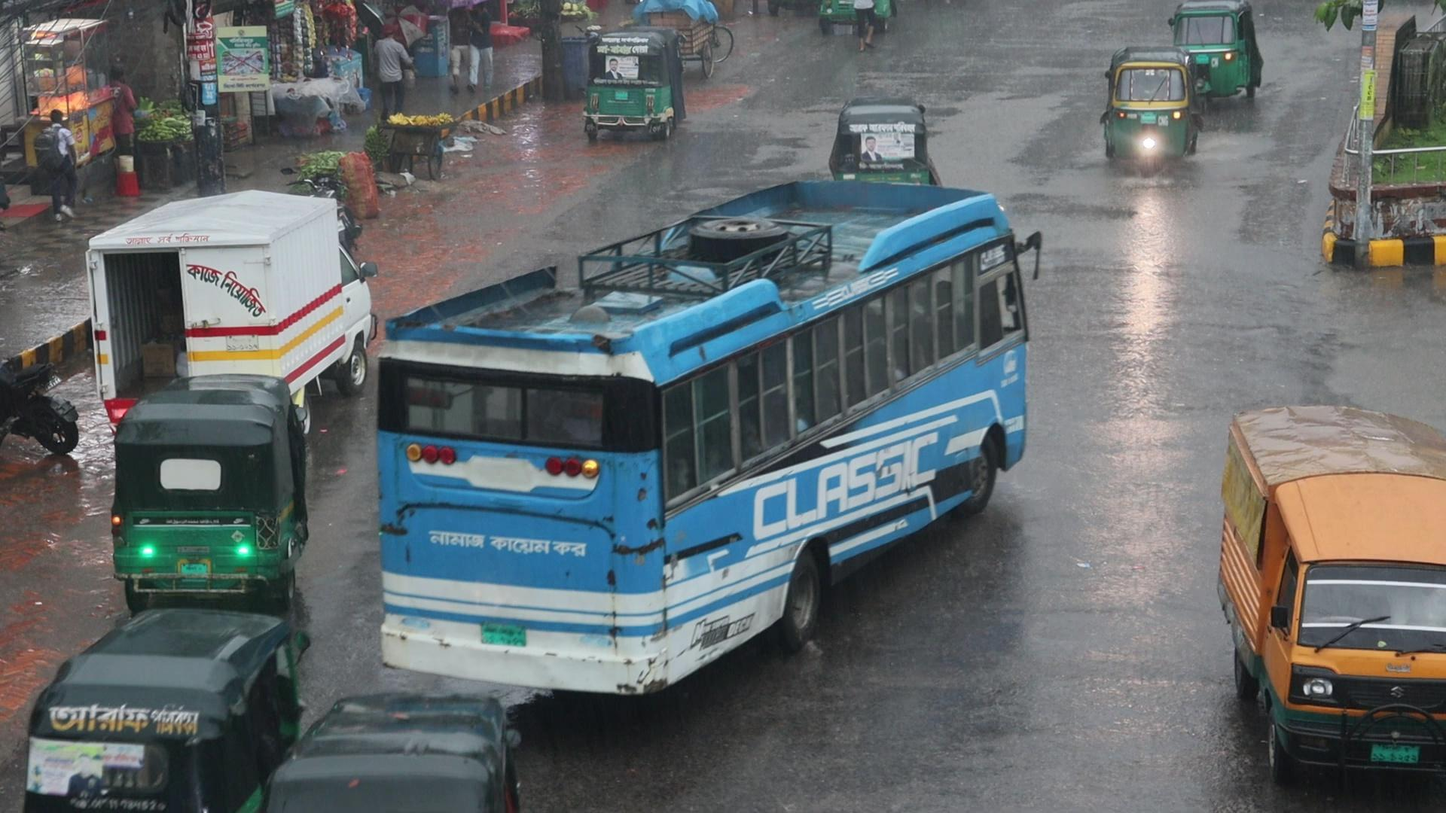Bus: (364, 150, 1020, 702)
Truck: (1205, 402, 1446, 772)
